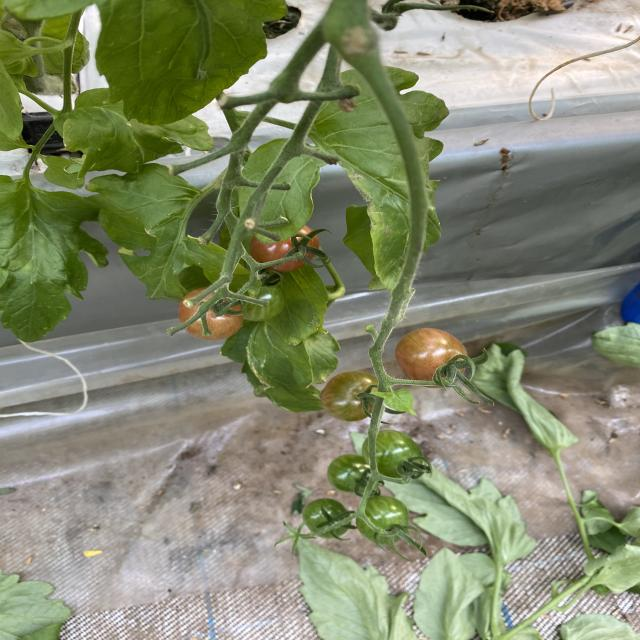c-half-riped: (394, 326, 469, 388), (249, 223, 320, 273), (176, 288, 244, 340), (322, 371, 379, 422)
c-unriped: (362, 429, 424, 480), (355, 494, 410, 544), (302, 497, 352, 539), (328, 454, 380, 493), (244, 279, 286, 320)
